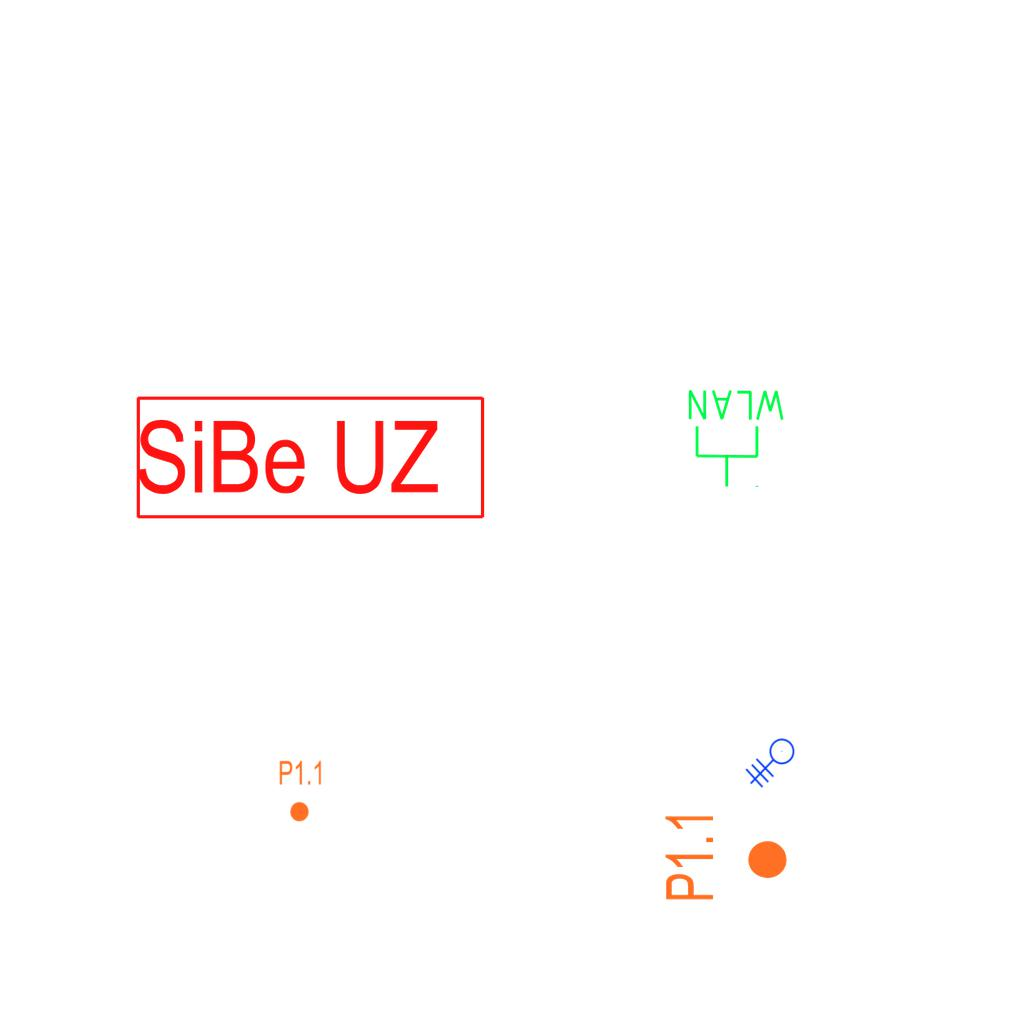Downlight_LED_Einbauleuchten_Flur_2: (662, 810, 790, 903), (278, 759, 324, 823)
Elektroanschluss_allgemein_400V_Geraeteanschlussdose_400V: (745, 738, 803, 794)
WLAN: (684, 386, 789, 490)
Zentrale_Sicherheitsbeleuchtung: (133, 393, 490, 523)
